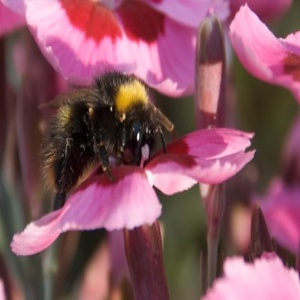bee: (41, 67, 176, 209)
